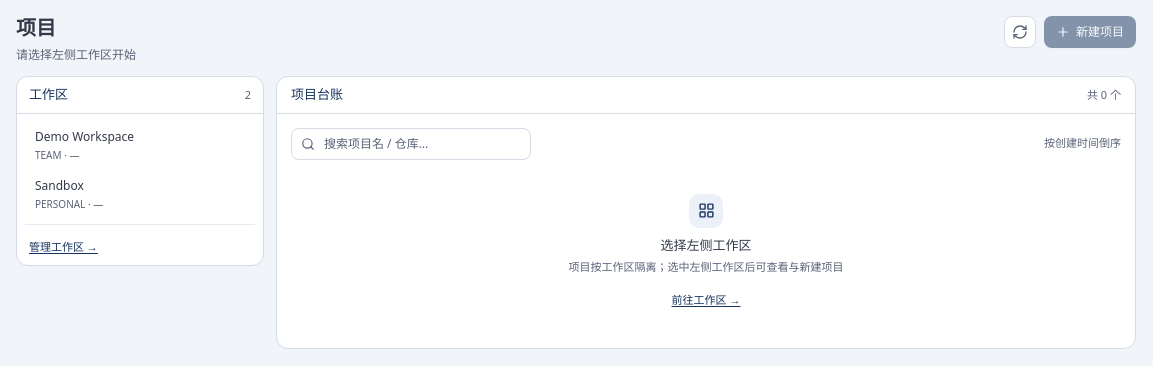
Test: Projects › 台账搜索按仓库片段过滤（纯前端）
Click the button "Demo Workspace TEAM · —".
click(140, 145)  # box top-left (25, 122), bottom-right (255, 168)
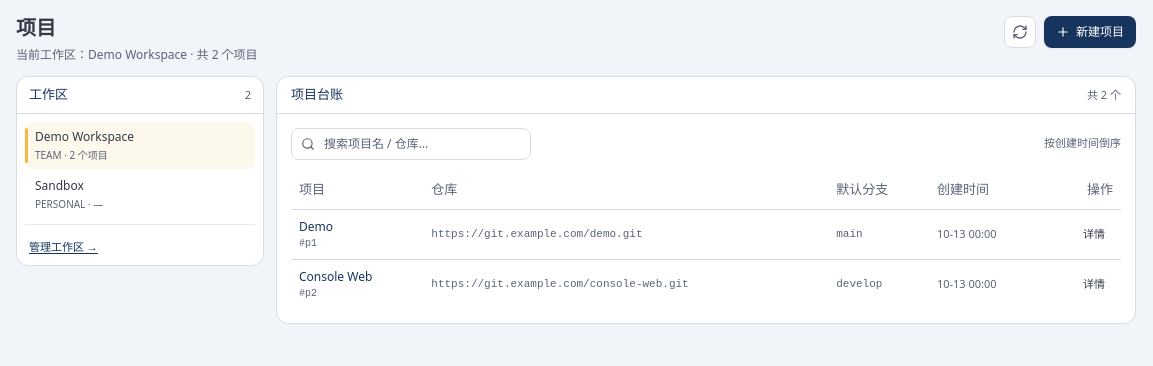
Expected: the row with test id "project-row-p2" is shown, top-left (291, 260), bottom-right (1121, 309)
Type "console-web" into the field with test id "projects-search".
click(411, 144); type("console-web")  # box top-left (291, 128), bottom-right (531, 160)
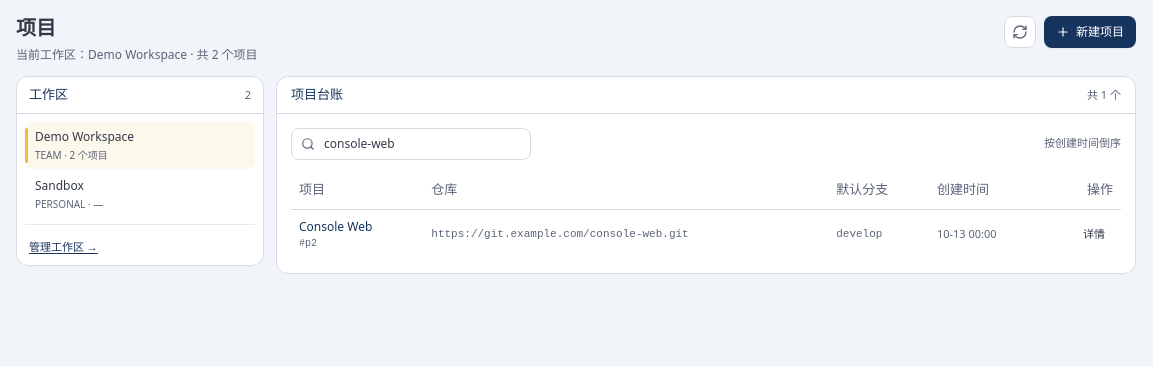
Expected: the row with test id "project-row-p2" is shown, top-left (291, 210), bottom-right (1121, 259)
Expected: the row with test id "project-row-p1" is gone
Expected: the text with test id "projects-total" reads "共 1 个", top-left (1087, 86), bottom-right (1121, 103)
